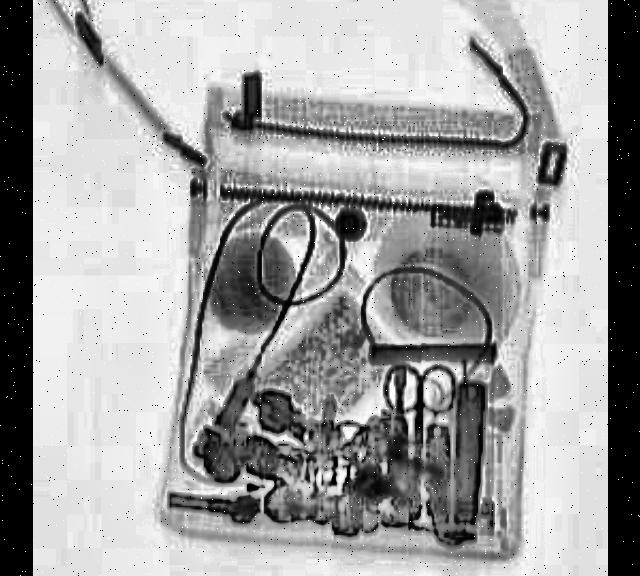Scissors: (373, 358, 452, 518)
